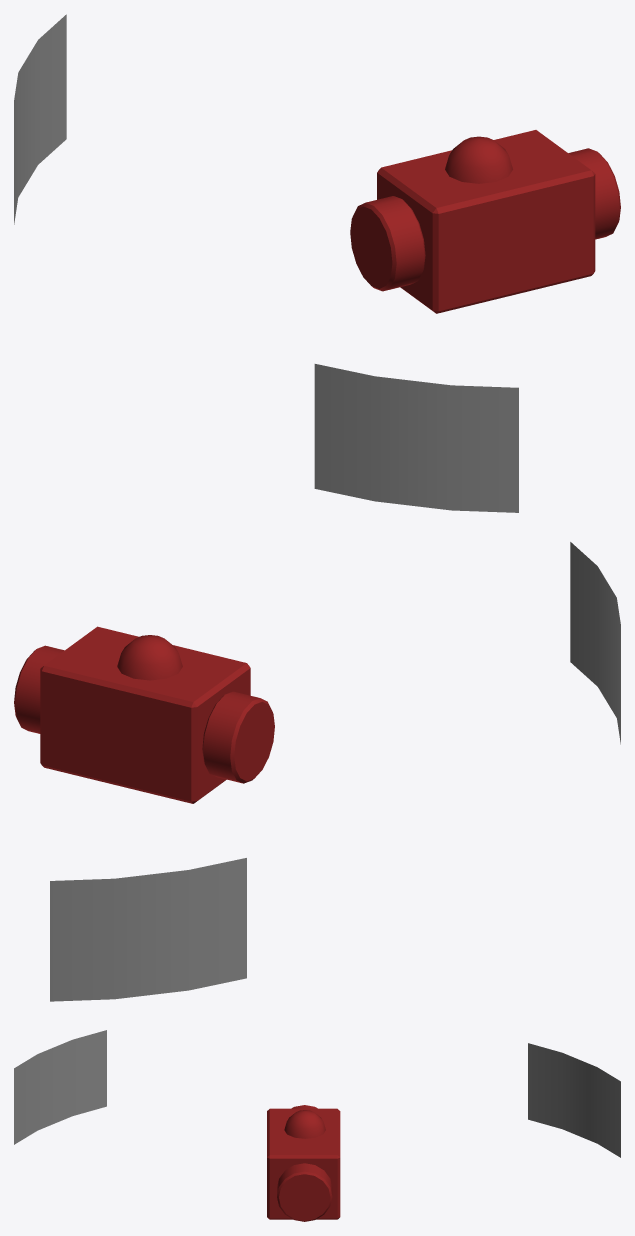
Rendered from interactivityStation.FBX.
3 renders of one model, top to bottom at view 1: azimuth 30°, elevation 25°; view 2: azimuth 150°, elevation 25°; view 3: azimuth 270°, elevation 25°, orthographic. The views are drawn at different scales.
Parts seen in each view (by area): view 1: box, rotateLeft, rotateRight, button_right, light, button_wrong; view 2: box, rotateRight, rotateLeft, button_right, light, button_wrong; view 3: rotateLeft, rotateRight, box, button_wrong, light.
Boxes of the visible parts, box(x1,y1,x2,y2) form: box: box(377, 130, 595, 313); rotateLeft: box(314, 364, 518, 512); rotateRight: box(14, 14, 66, 224); button_right: box(350, 196, 425, 291); light: box(445, 136, 512, 183); button_wrong: box(568, 148, 620, 239); box: box(40, 626, 250, 803); rotateRight: box(50, 858, 246, 1001); rotateLeft: box(570, 542, 620, 744); button_right: box(202, 691, 274, 783); light: box(117, 635, 182, 680); button_wrong: box(14, 645, 64, 733); rotateLeft: box(14, 1030, 106, 1144); rotateRight: box(528, 1043, 620, 1157); box: box(267, 1108, 340, 1219); button_wrong: box(277, 1163, 332, 1221); light: box(284, 1110, 325, 1138).
Size of the model in its own units: 3.67 by 1.18 by 7.05.
